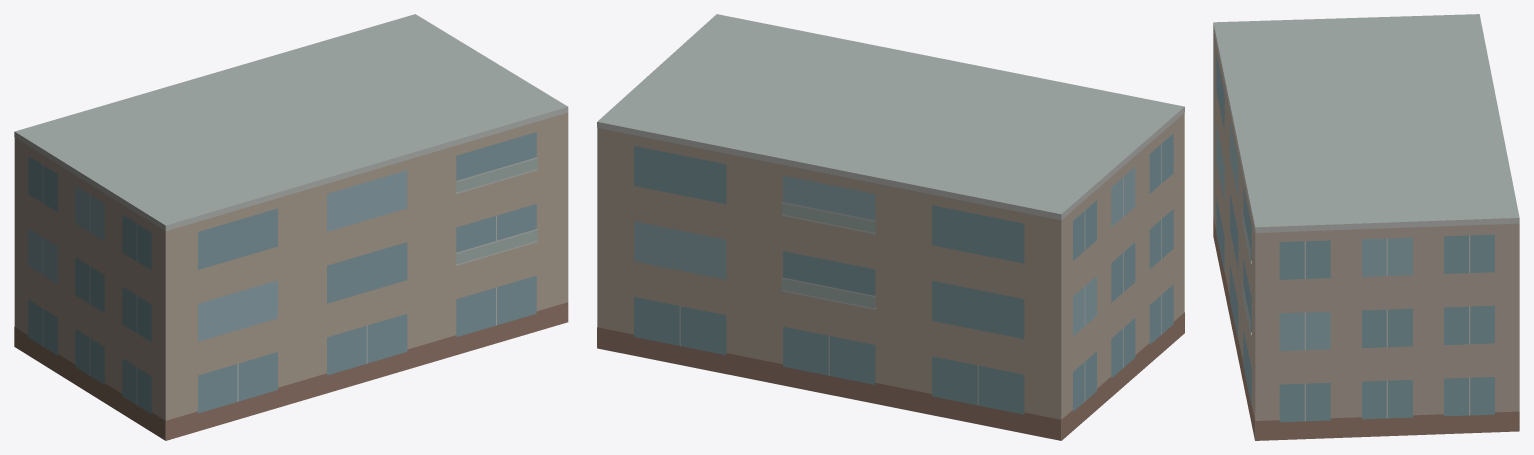
Rendered from survey-upis-32758995.glb.
The picture shows the model from 3 angles, left to right: view 1: azimuth 30°, elevation 25°; view 2: azimuth 150°, elevation 25°; view 3: azimuth 270°, elevation 25°; orthographic projection. The views are drawn at different scales.
Parts seen in each view (by area): view 1: survey-upis-32758995.tmp; view 2: survey-upis-32758995.tmp; view 3: survey-upis-32758995.tmp.
Part boxes in pixels (x1,y1,x2,y2): survey-upis-32758995.tmp: (14,14,568,440); survey-upis-32758995.tmp: (597,14,1184,440); survey-upis-32758995.tmp: (1213,14,1519,440).
Bounding box in the file's own units: 19.61 × 9.15 × 11.91.
